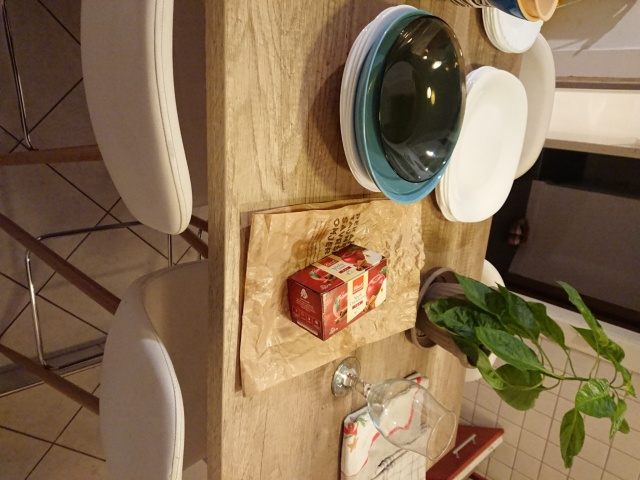Franck Apple Cinnamon Tea 60g: (284, 240, 390, 343)
